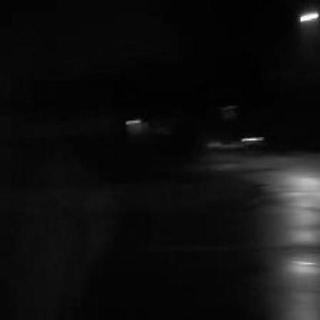other: (235, 127, 269, 157), (286, 7, 317, 30)
